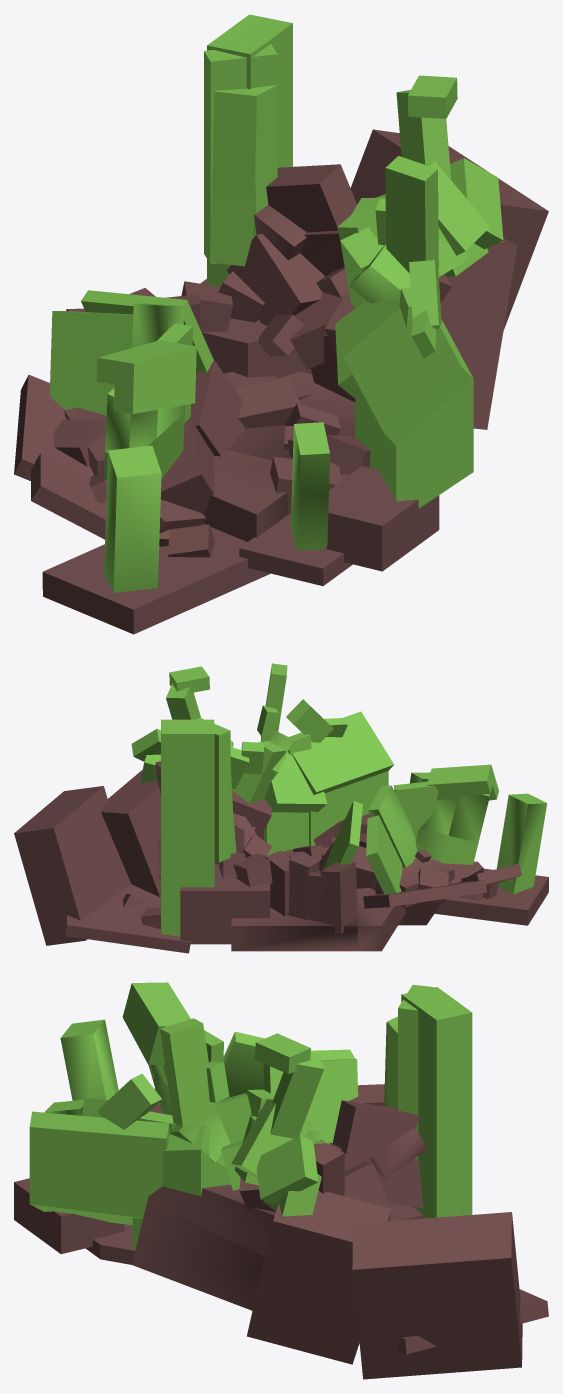
Rendered from Grot_RubbleEntry.fbx.
The picture shows the model from 3 angles, top to bottom: view 1: azimuth 30°, elevation 25°; view 2: azimuth 150°, elevation 25°; view 3: azimuth 270°, elevation 25°; orthographic projection. The views are drawn at different scales.
Parts seen in each view (by area): view 1: EntrancRubbleSafe, EntrancRubblePain; view 2: EntrancRubblePain, EntrancRubbleSafe; view 3: EntrancRubblePain, EntrancRubbleSafe.
Part boxes in pixels (x1=…): EntrancRubbleSafe: x1=49, y1=14, x2=503, y2=592; EntrancRubblePain: x1=14, y1=129, x2=548, y2=634; EntrancRubblePain: x1=14, y1=761, x2=548, y2=953; EntrancRubbleSafe: x1=131, y1=663, x2=547, y2=936; EntrancRubblePain: x1=14, y1=1084, x2=548, y2=1379; EntrancRubbleSafe: x1=29, y1=982, x2=472, y2=1250.
Size of the model in its own units: 3707 by 2090 by 3319.
